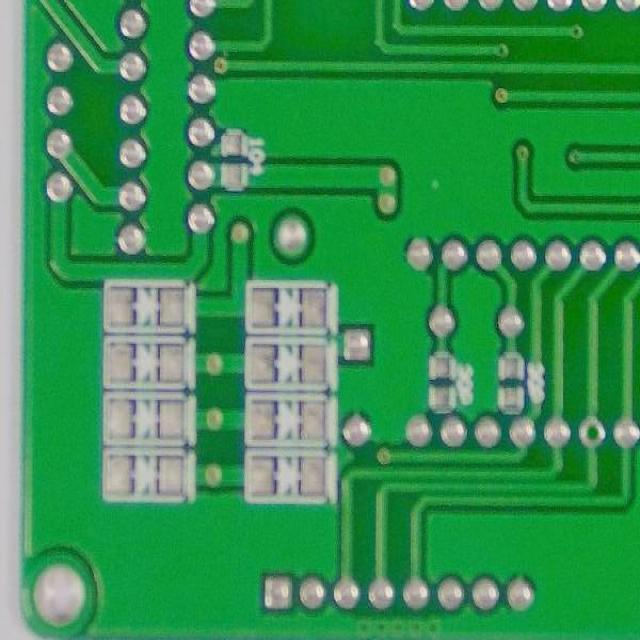missing hole: (574, 412, 610, 455)
